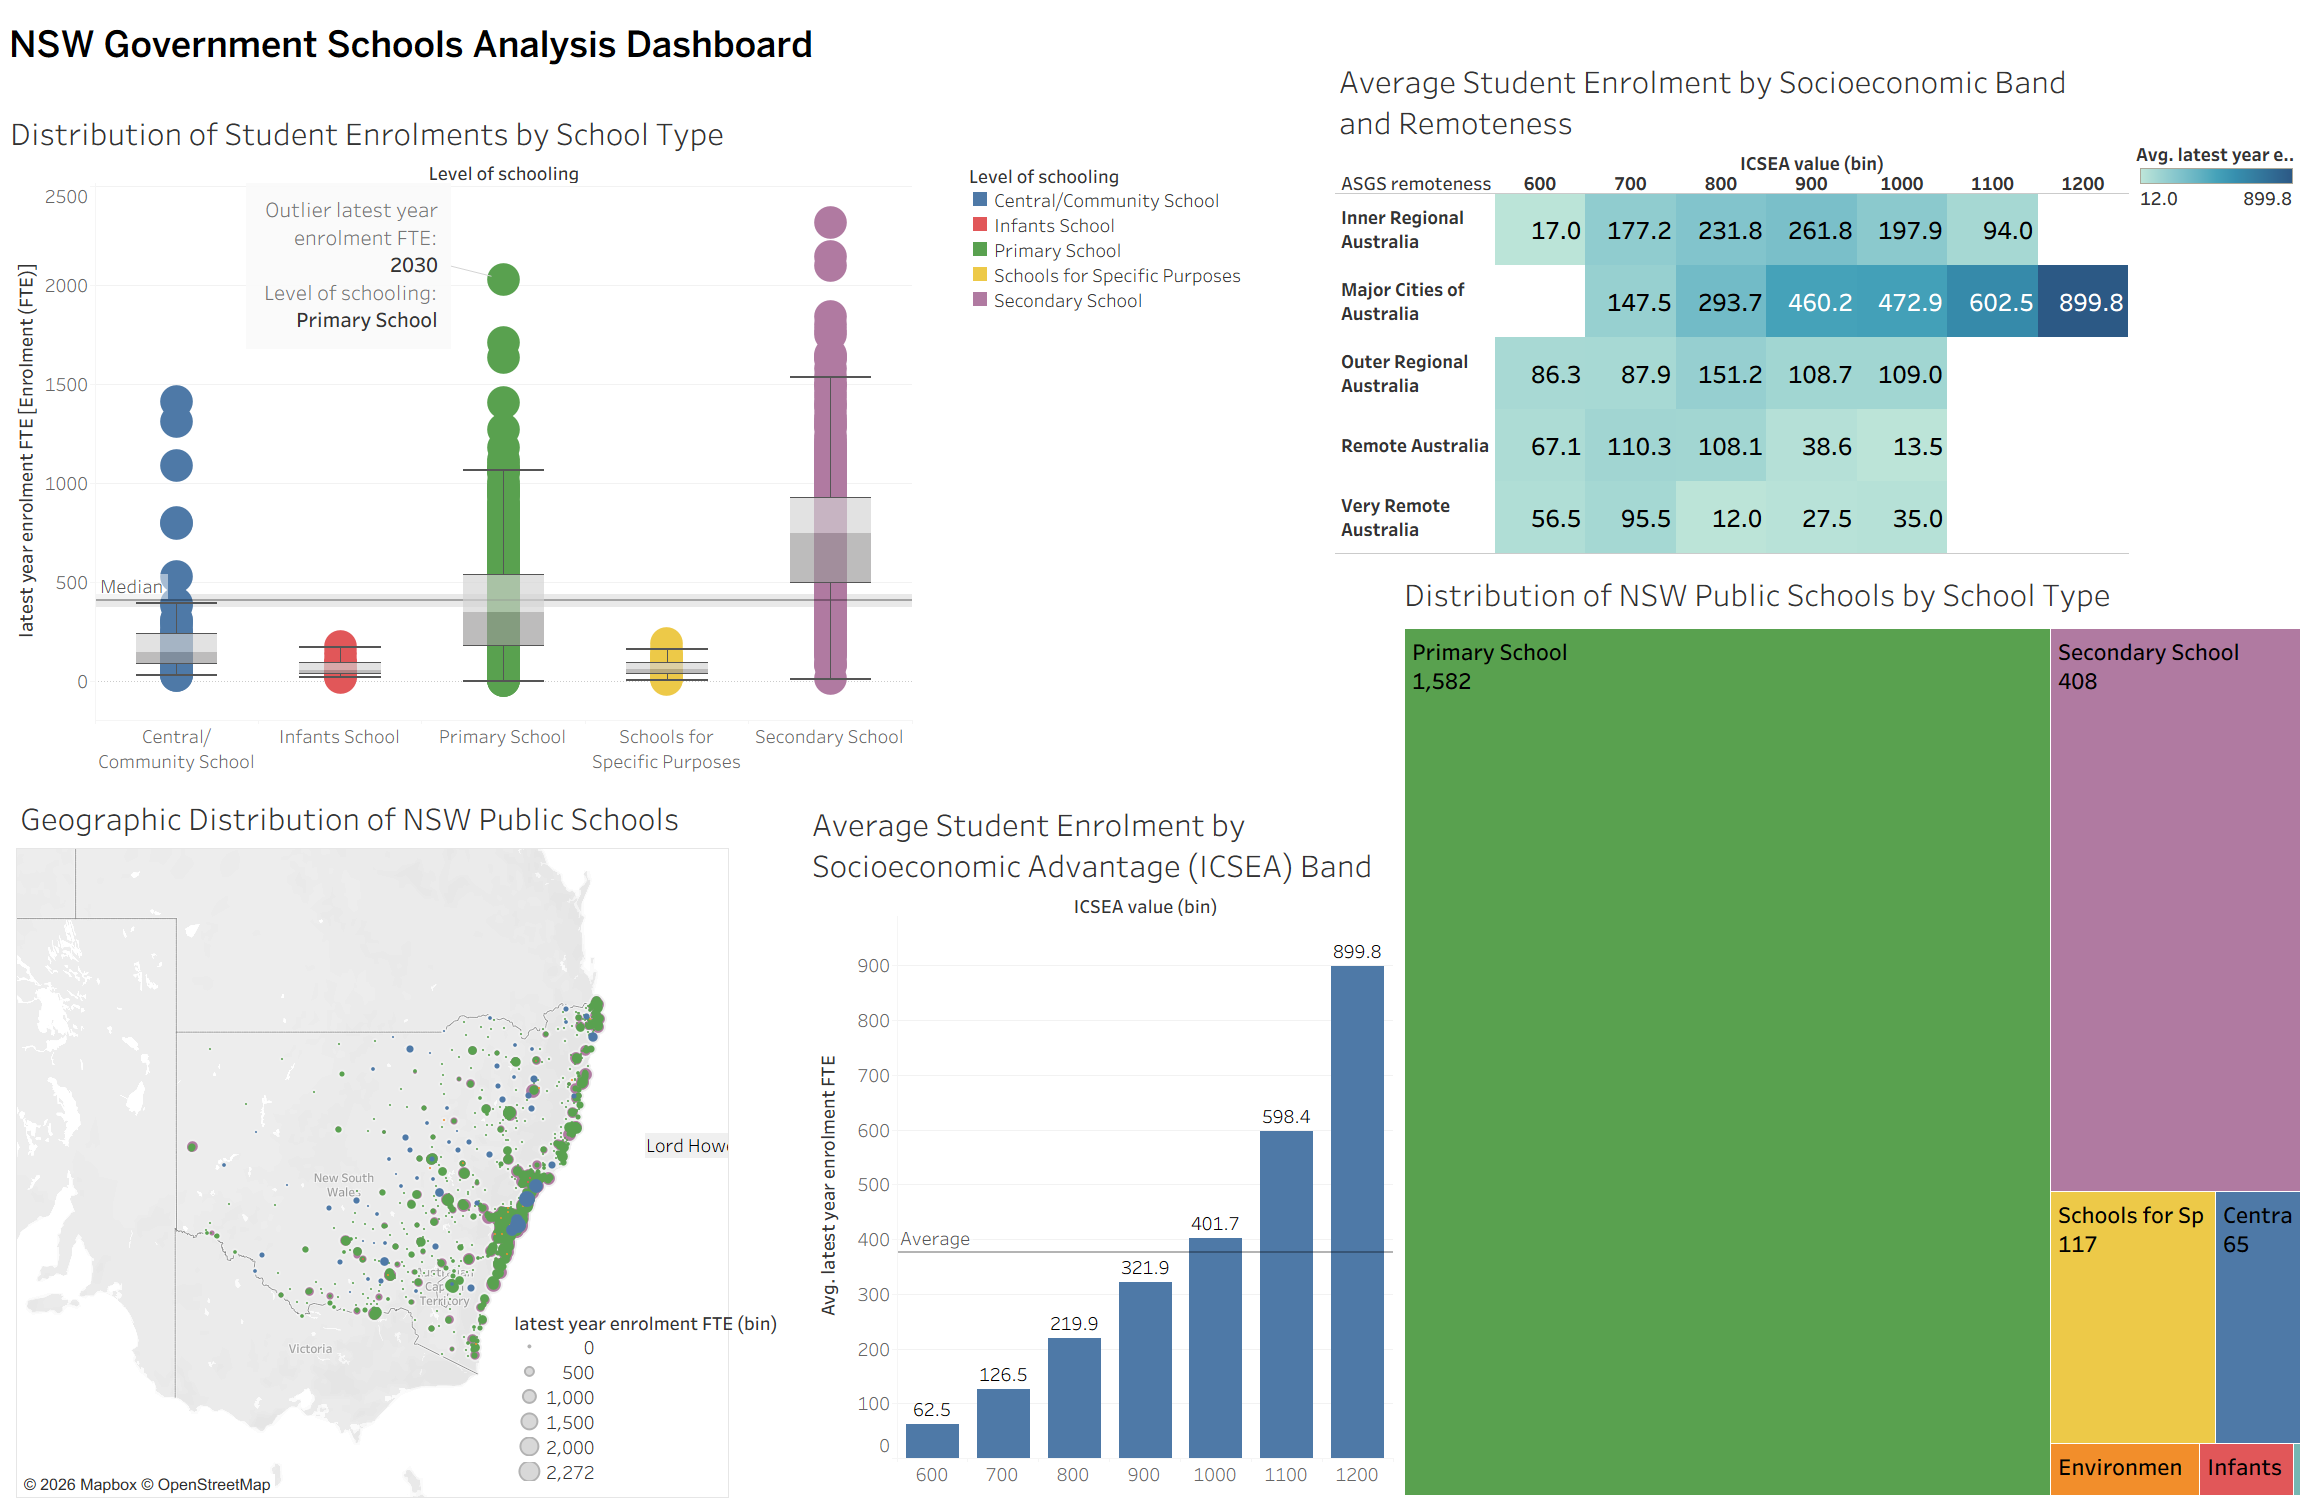

The page's visual inventory and layout, read from the dashboard file:
{"tool":"tableau","page":{"name":"NSW Government Schools Analysis Dashboard","canvas":[2300,1500],"ordinal":0},"visuals":[{"type":"worksheet","title":"Average Student Enrolment by Socioeconomic Band and Remoteness","mark":"Square","rows":["ASGS_remoteness"],"cols":["ICSEA value (bin)"],"box":[1335,54,794,500]},{"type":"worksheet","title":"Distribution of Student Enrolments by School Type","mark":"Circle","rows":["latest_year_enrolment_FTE"],"cols":["Level_of_schooling"],"box":[5.8,106.5,906.2,741]},{"type":"legend","title":"Average Student Enrolment by Socioeconomic Band and Remoteness","param":"[federated.062k53g1w7r4vy16pnafq06gdpnd].[avg:latest_year_enrolment_FTE:qk]","box":[2135.6,136.5,161,150]},{"type":"legend","title":"Distribution of Student Enrolments by School Type","param":"[federated.062k53g1w7r4vy16pnafq06gdpnd].[none:Level_of_schooling:nk]","box":[968.3,160.5,332.4,318]},{"type":"worksheet","title":"Distribution of NSW Public Schools by School Type","mark":"Square","box":[1400,567,911,932]},{"type":"worksheet","title":"Geographic Distribution of NSW Public Schools","mark":"Automatic","rows":["Latitude"],"cols":["Longitude"],"box":[16.1,790.5,713,706.5]},{"type":"worksheet","title":"Average Student Enrolment by Socioeconomic Advantage (ICSEA) Band","mark":"Bar","rows":["latest_year_enrolment_FTE"],"cols":["ICSEA value (bin)"],"box":[808,797,586,690]}]}

Visuals, with their boxes in screenshot pixels (x1, y1, x2, y2), scaled from the page's 2300x1500 canvas onto the 2300x1500 screenshot:
"Average Student Enrolment by Socioeconomic Band and Remoteness" worksheet (Square marks): 1335 54 2129 554
"Distribution of Student Enrolments by School Type" worksheet (Circle marks): 6 106 912 848
"Average Student Enrolment by Socioeconomic Band and Remoteness" legend: 2136 136 2297 286
"Distribution of Student Enrolments by School Type" legend: 968 160 1301 478
"Distribution of NSW Public Schools by School Type" worksheet (Square marks): 1400 567 2299 1499
"Geographic Distribution of NSW Public Schools" worksheet: 16 790 729 1497
"Average Student Enrolment by Socioeconomic Advantage (ICSEA) Band" worksheet (Bar marks): 808 797 1394 1487
